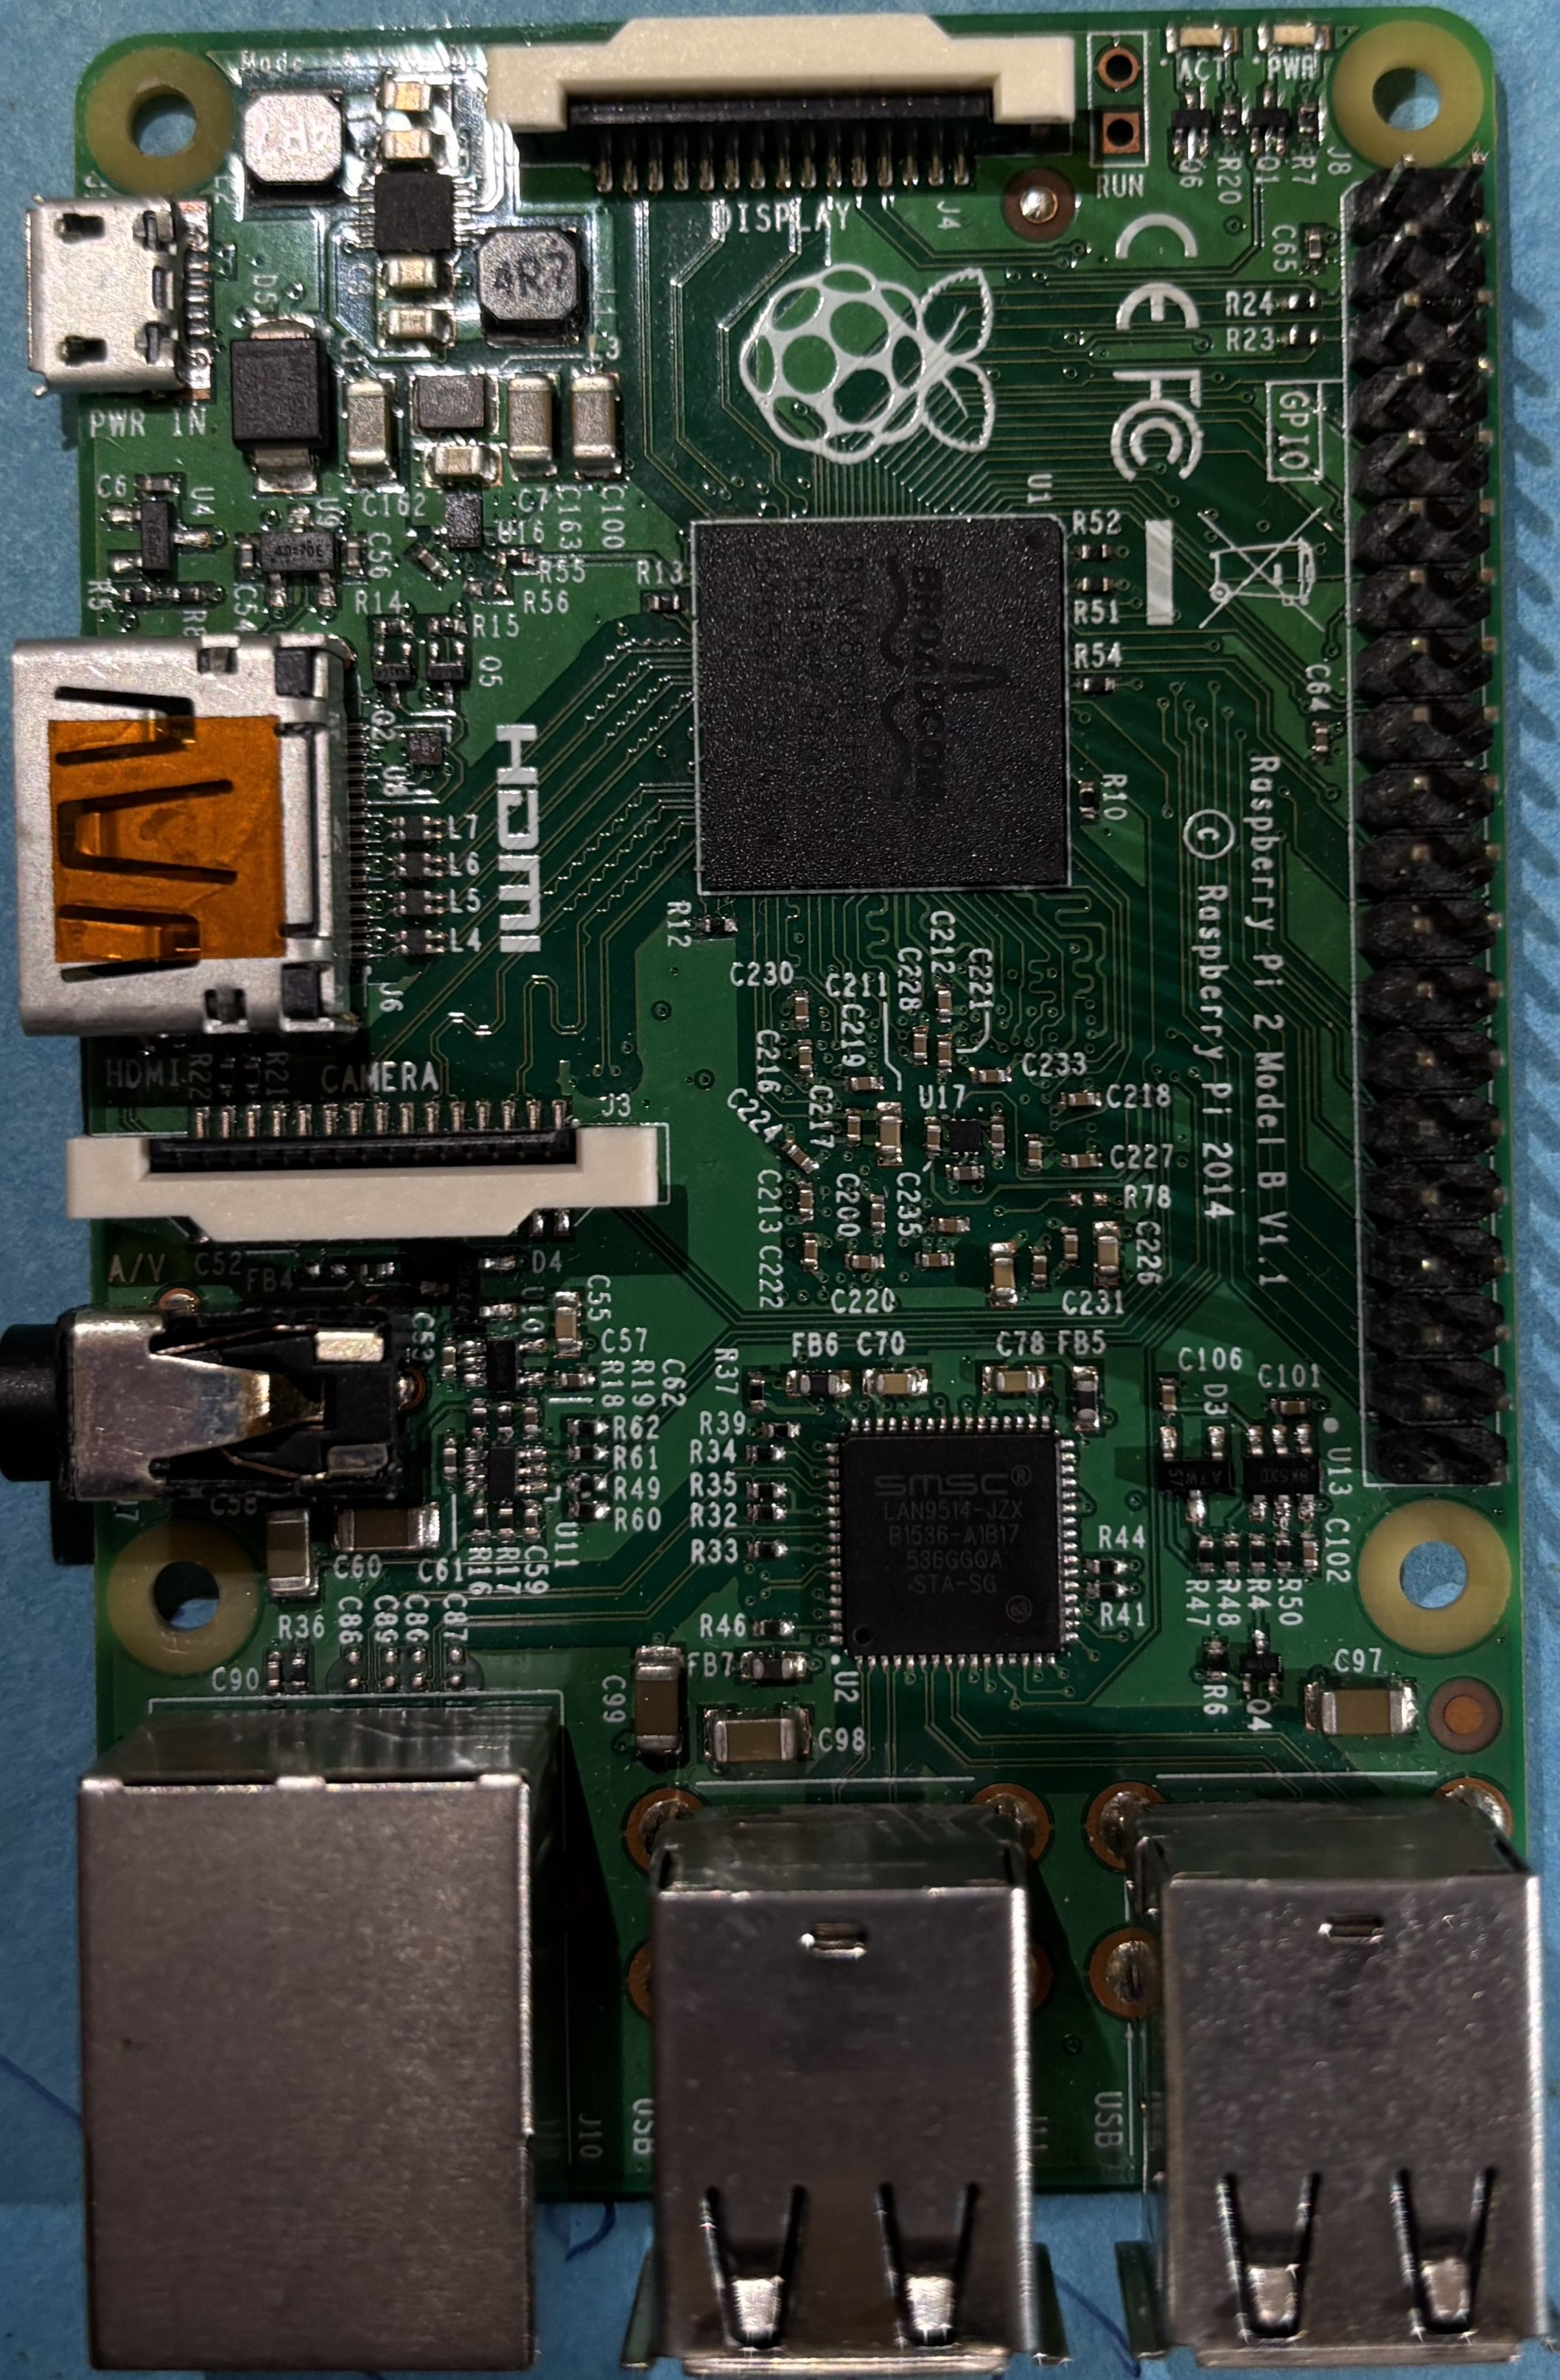Induktor: (475, 230, 585, 338), (240, 92, 345, 198), (413, 373, 498, 434), (388, 851, 442, 879), (388, 815, 444, 841), (390, 890, 444, 916), (392, 928, 446, 954)
